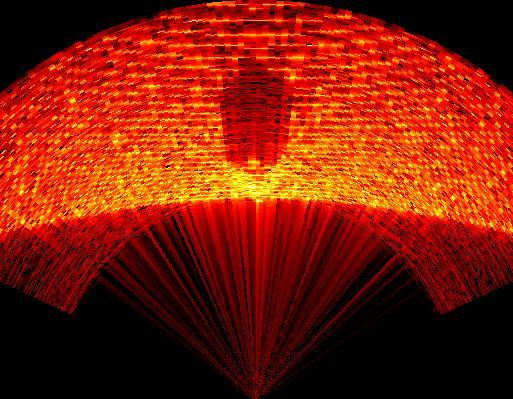box_crate: (217, 56, 290, 177)
